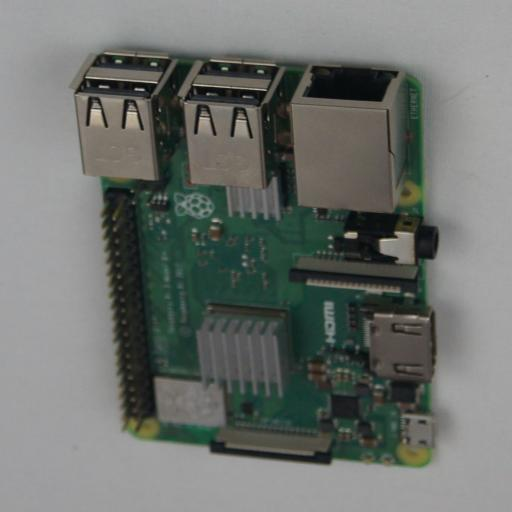Raspberry Pi 3 B-: (74, 46, 439, 466)
